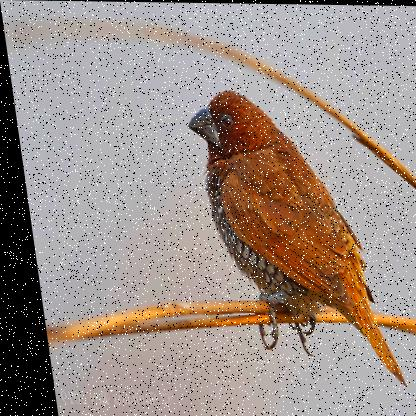Burung: (180, 89, 395, 385)
